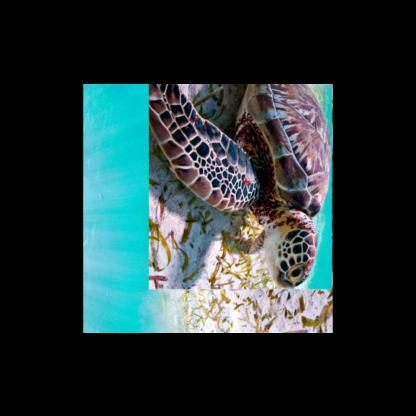turtle: (148, 82, 332, 288)
